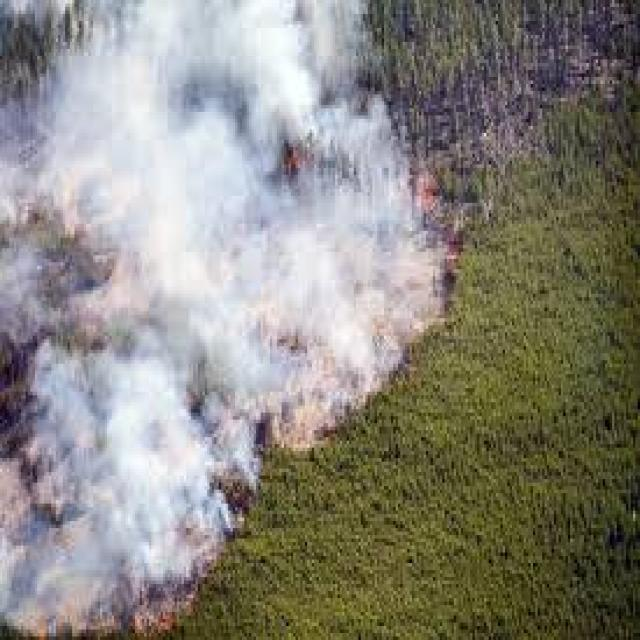Smoke: (0, 0, 462, 638)
